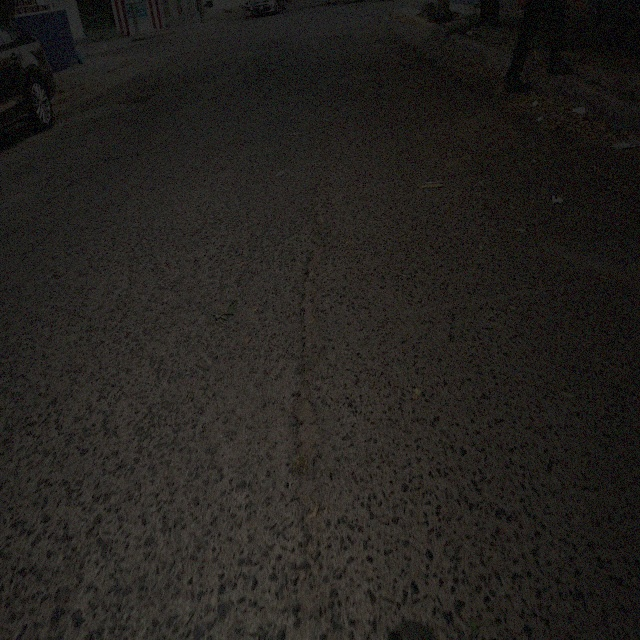pothole: (290, 360, 325, 466), (299, 223, 330, 335)
